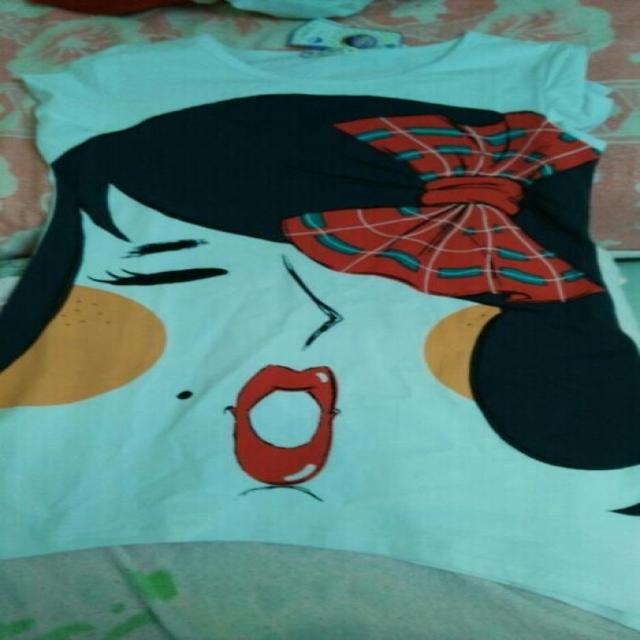short sleeve top: (3, 32, 633, 632)
